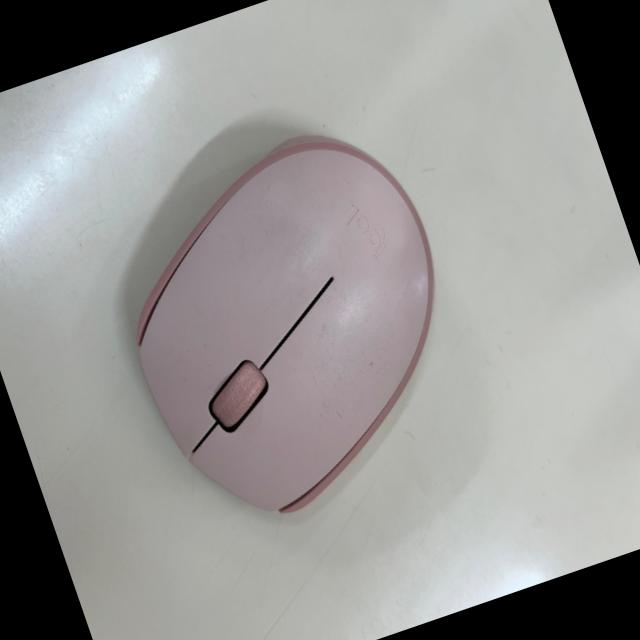inorganic: (86, 110, 496, 540)
